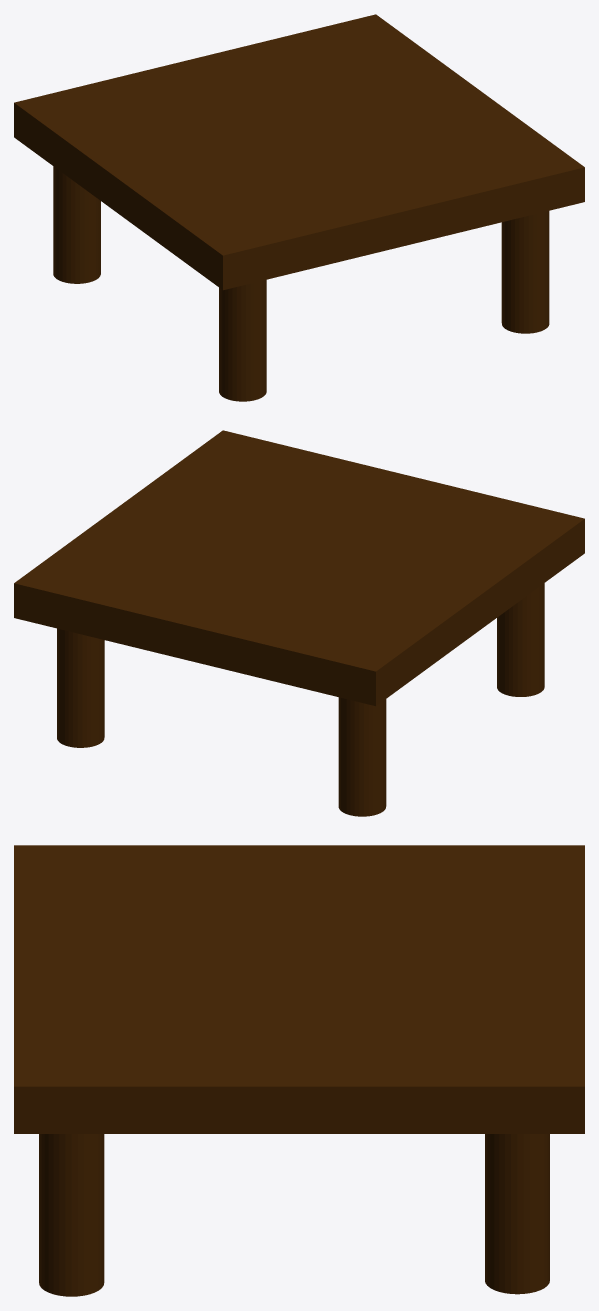
File: table.fbx
The picture shows the model from 3 angles, top to bottom: view 1: azimuth 30°, elevation 25°; view 2: azimuth 150°, elevation 25°; view 3: azimuth 270°, elevation 25°; orthographic projection. The views are drawn at different scales.
Parts seen in each view (by area): view 1: Cylinder.003; view 2: Cylinder.003; view 3: Cylinder.003.
Boxes of the visible parts, x1,y1,x2,y2 form: Cylinder.003: (14,14,584,401); Cylinder.003: (14,430,584,816); Cylinder.003: (14,845,584,1296).
Size of the model in its own units: 397 by 170 by 397.
